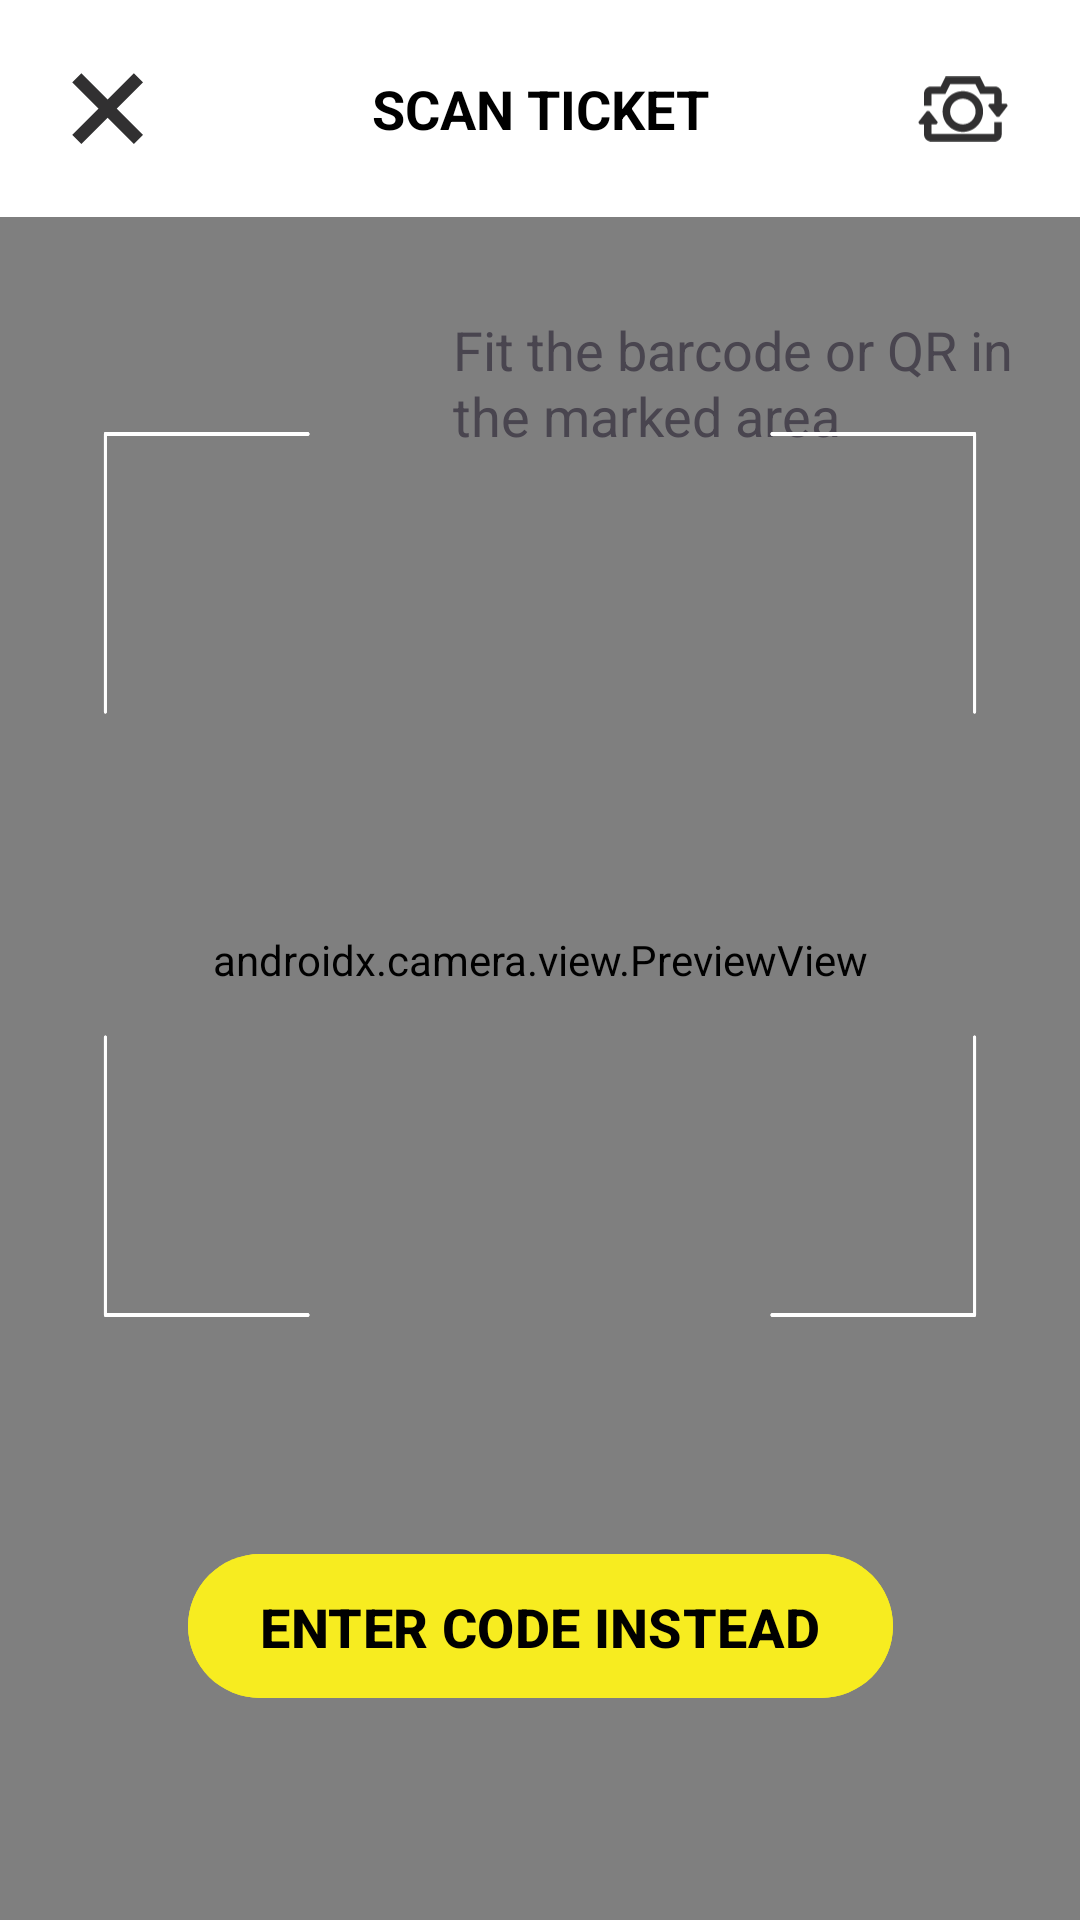

Named icons in this screenshot (1080x1920) and their centers, (x,y):
camera rotate: (963,109)
close: (107,108)
